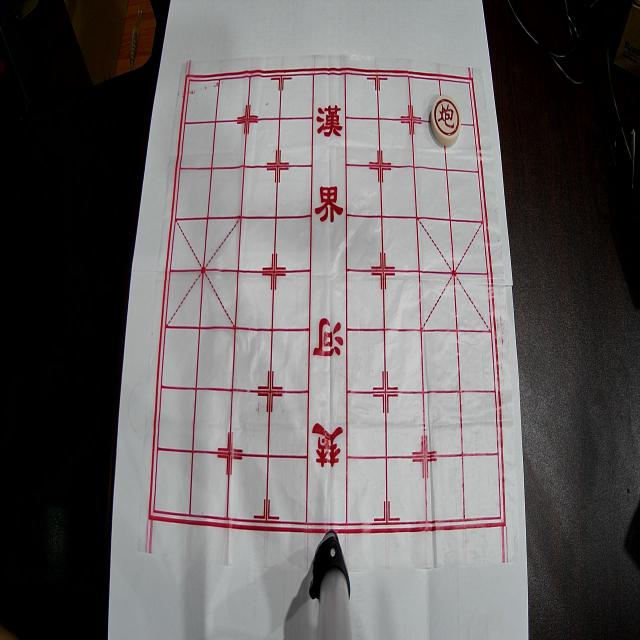red-cannon: (431, 95, 461, 146)
